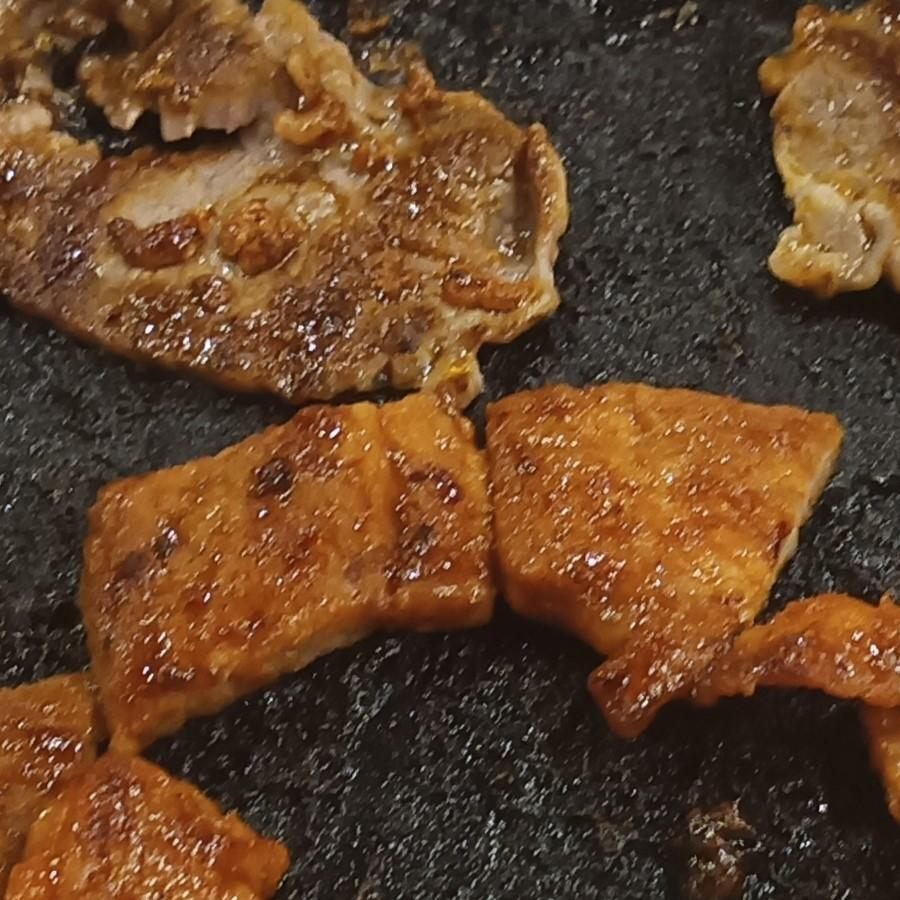Overcooked: (0, 0, 569, 406)
Well-Cooked: (486, 383, 899, 815), (79, 394, 489, 758), (759, 17, 899, 307), (6, 757, 291, 899), (0, 682, 95, 870)
